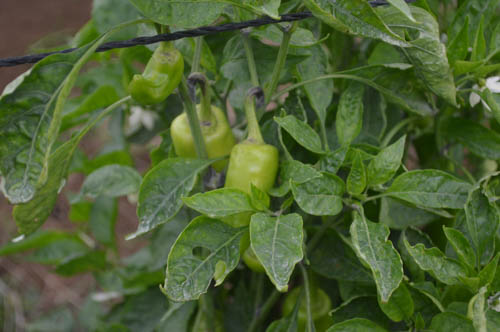ChiliPepper: (225, 142, 280, 249), (171, 106, 240, 173), (127, 48, 182, 107)
